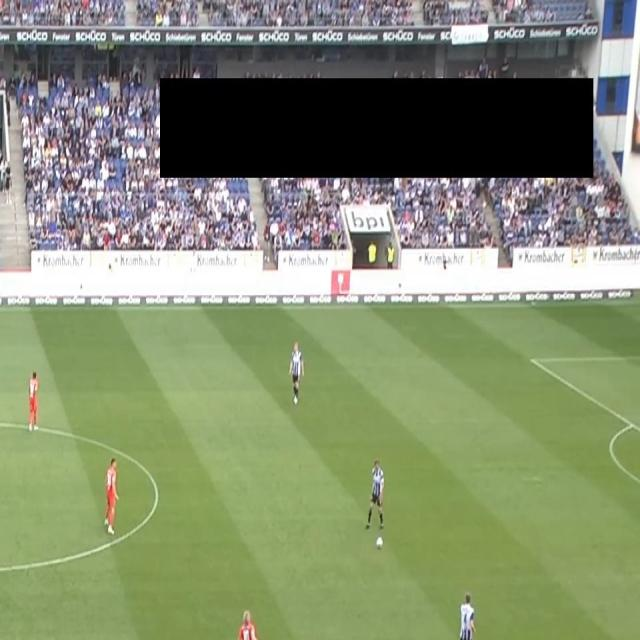ball: (376, 536, 384, 550)
